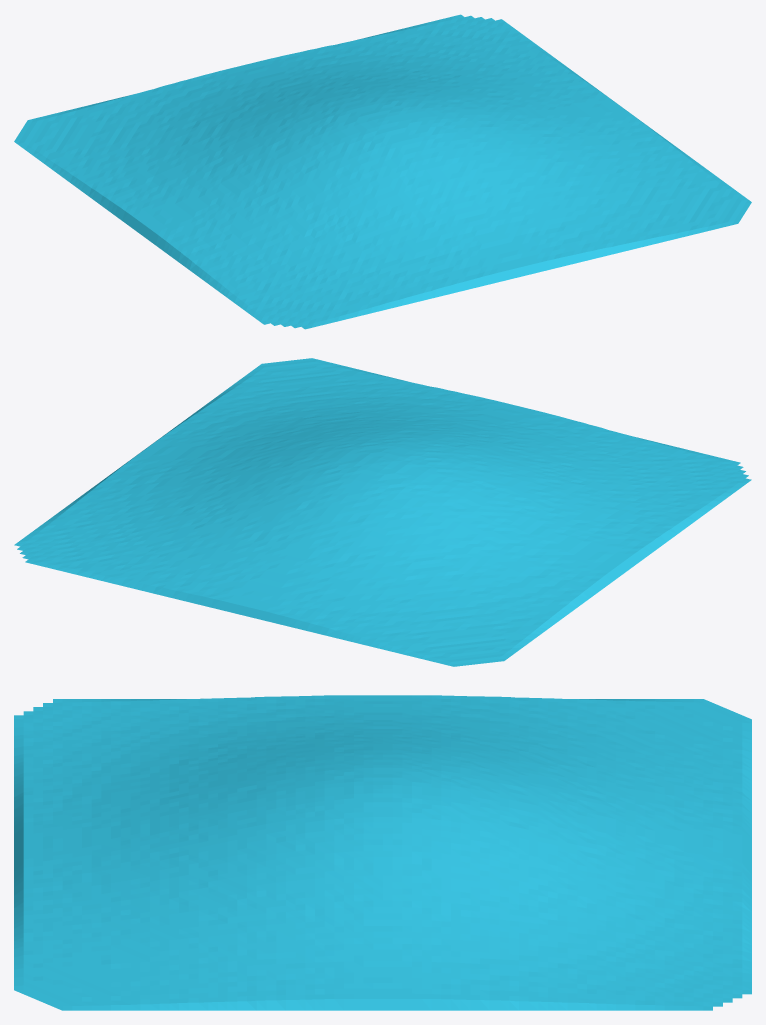
The model's file is mesh_waves.dae.
3 views of the same model, one above another, from view 1: azimuth 30°, elevation 25°; view 2: azimuth 150°, elevation 25°; view 3: azimuth 270°, elevation 25° (orthographic). The views are drawn at different scales.
Parts seen in each view (by area): view 1: ImageToStl.com_height_map; view 2: ImageToStl.com_height_map; view 3: ImageToStl.com_height_map.
Boxes of the visible parts, x1,y1,x2,y2 form: ImageToStl.com_height_map: (14,14,751,329); ImageToStl.com_height_map: (14,358,751,666); ImageToStl.com_height_map: (14,695,751,1010).
Size of the model in its own units: 3.99 by 3.99 by 0.3937.
